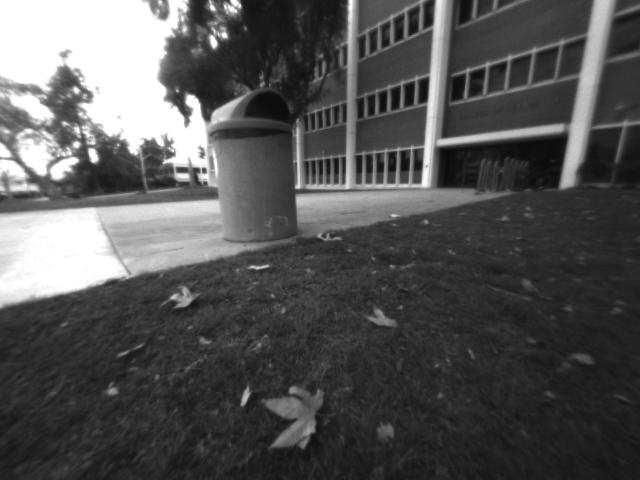trashcan: (205, 86, 302, 247)
